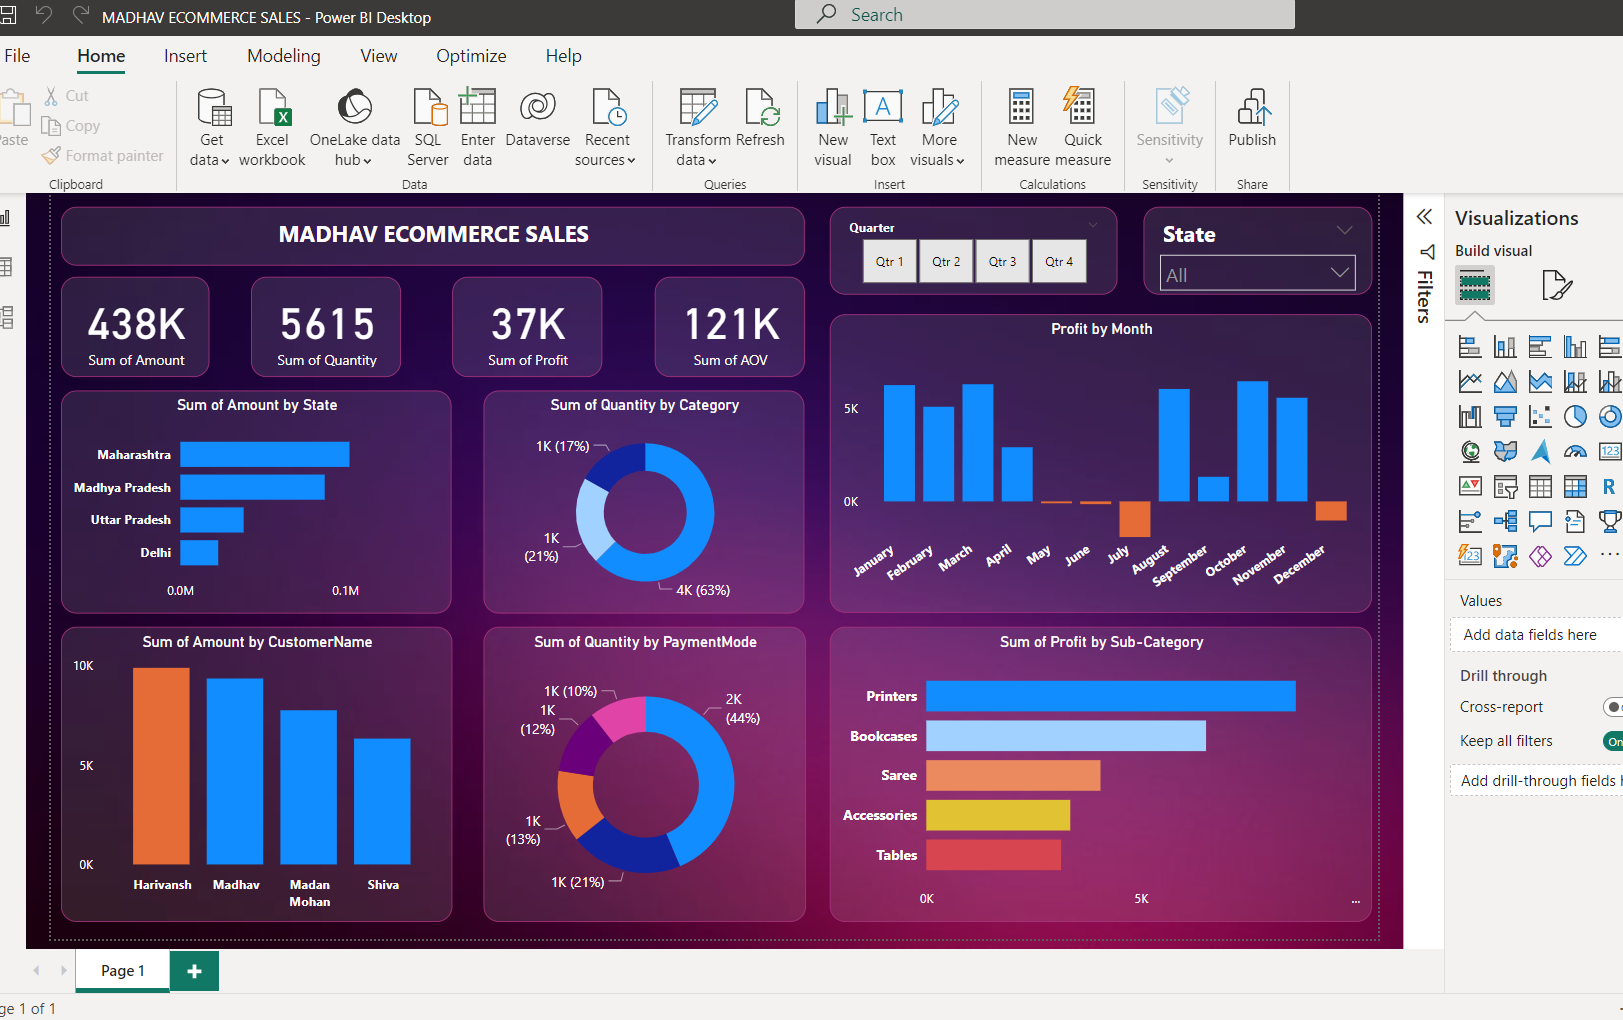

Layout of this report page (visuals, bound fields, positions):
{"tool":"powerbi","page":{"name":"Page 1","canvas":[1280,720],"ordinal":0},"visuals":[{"type":"textbox","box":[9.6,13.3,717.6,56.7],"z":0},{"type":"columnChart","title":"Profit by Month","fields":{"Y":["Details (1).Profit"],"Category":["Orders (1).Order Date.Variation.Date Hierarchy.Month"]},"box":[751.4,117,523.4,288.2],"z":1000},{"type":"barChart","fields":{"Y":["Details (1).Profit"],"Category":["Details (1).Sub-Category"]},"box":[751.4,418.5,523.4,284.6],"z":2000},{"type":"donutChart","fields":{"Category":["Details (1).Category"],"Y":["Details (1).Quantity"]},"box":[416.8,190.6,309.9,215.3],"z":3000},{"type":"donutChart","fields":{"Y":["Details (1).Quantity"],"Category":["Details (1).PaymentMode"]},"box":[416.8,418.2,311.2,285.2],"z":4000},{"type":"card","fields":{"Values":["Details (1).Amount"]},"box":[9.6,80.8,143.5,96.5],"z":4001},{"type":"card","fields":{"Values":["Details (1).Quantity"]},"box":[193,80.8,144.7,96.5],"z":4002},{"type":"card","fields":{"Values":["Details (1).Profit"]},"box":[387.1,80.8,144.7,96.5],"z":4003},{"type":"card","fields":{"Values":["Details (1).AOV"]},"box":[582.5,80.8,144.7,96.5],"z":4004},{"type":"barChart","fields":{"Y":["Details (1).Amount"],"Category":["Orders (1).State"]},"box":[9.6,190.6,377,215.3],"z":4005},{"type":"columnChart","fields":{"Category":["Orders (1).CustomerName"],"Y":["Details (1).Amount"]},"box":[9.6,418.5,377.5,284.6],"z":4006},{"type":"slicer","fields":{"Values":["Orders (1).Order Date.Variation.Date Hierarchy.Quarter"]},"box":[751.4,13.3,277.4,84.4],"z":4007},{"type":"slicer","fields":{"Values":["Orders (1).State"]},"box":[1054.1,13.3,220.7,84.4],"z":4008}]}

Visuals, with their boxes on the page's 1280x720 design canvas (x1, y1, x2, y2). These are canvas units, not pixel positions in the 1623x1020 screenshot, which may show the page scaled, cropped or inside an application window:
textbox: bbox(10, 13, 727, 70)
"Profit by Month" columnChart: bbox(751, 117, 1275, 405)
barChart - Details (1).Profit x Details (1).Sub-Category: bbox(751, 418, 1275, 703)
donutChart - Details (1).Category x Details (1).Quantity: bbox(417, 191, 727, 406)
donutChart - Details (1).Quantity x Details (1).PaymentMode: bbox(417, 418, 728, 703)
card - Details (1).Amount: bbox(10, 81, 153, 177)
card - Details (1).Quantity: bbox(193, 81, 338, 177)
card - Details (1).Profit: bbox(387, 81, 532, 177)
card - Details (1).AOV: bbox(582, 81, 727, 177)
barChart - Details (1).Amount x Orders (1).State: bbox(10, 191, 387, 406)
columnChart - Orders (1).CustomerName x Details (1).Amount: bbox(10, 418, 387, 703)
slicer - Orders (1).Order Date.Variation.Date Hierarchy.Quarter: bbox(751, 13, 1029, 98)
slicer - Orders (1).State: bbox(1054, 13, 1275, 98)
